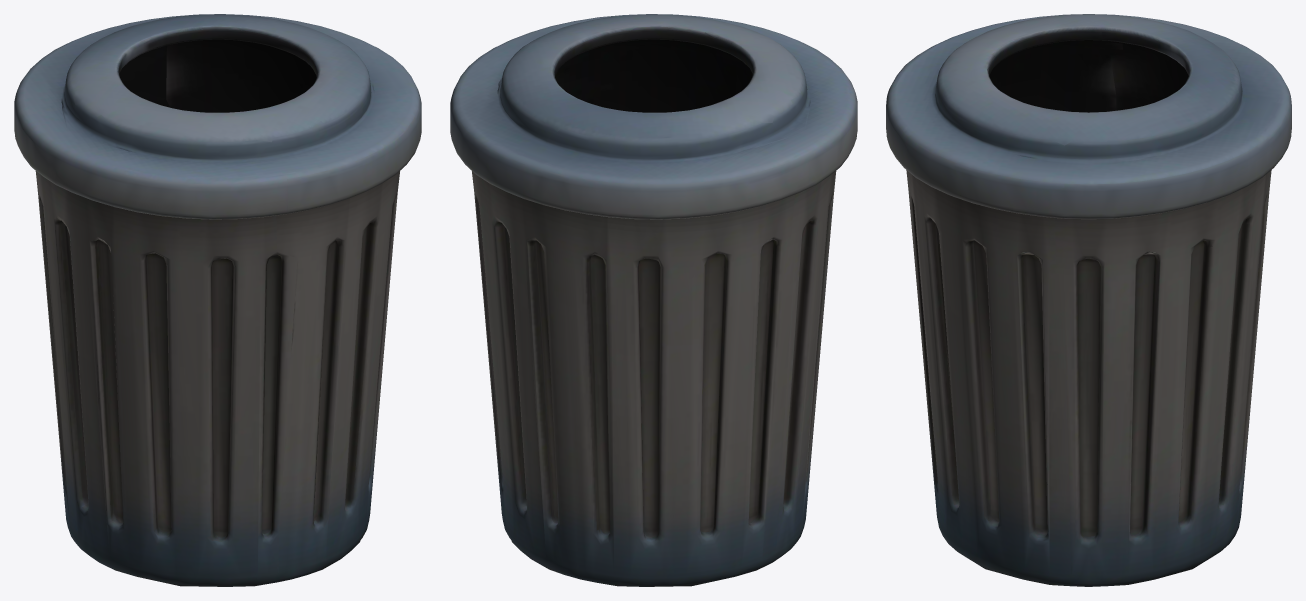
The model's file is garbage_can_6b3d052b_v3.glb.
3 renders of one model, left to right at view 1: azimuth 30°, elevation 25°; view 2: azimuth 150°, elevation 25°; view 3: azimuth 270°, elevation 25°, orthographic.
Visible parts, largest first — view 1: material; view 2: material; view 3: material.
Part boxes in pixels (x1,y1,x2,y2): material: [14, 14, 421, 586]; material: [450, 14, 857, 586]; material: [886, 14, 1291, 586].
Bounding box in the file's own units: 1.53 × 1.9 × 1.53.
Materials: 1 (1 with a texture image).
